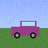vehicle: (11, 21, 39, 38)
